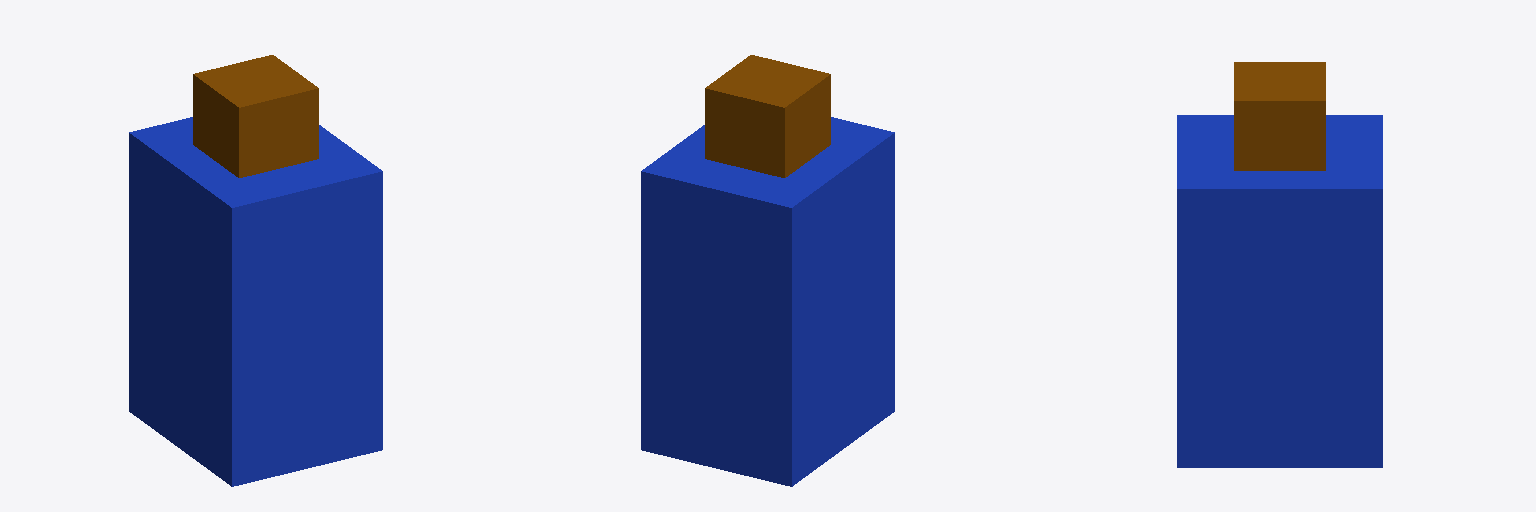
3 views of the same model, side by side, from view 1: azimuth 30°, elevation 25°; view 2: azimuth 150°, elevation 25°; view 3: azimuth 270°, elevation 25° (orthographic).
Parts seen in each view (by area): view 1: Cube, Cube.001_Cube.007; view 2: Cube, Cube.001_Cube.007; view 3: Cube, Cube.001_Cube.007.
Boxes of the visible parts, x1=… form: Cube: x1=129, y1=117, x2=382, y2=486; Cube.001_Cube.007: x1=193, y1=55, x2=318, y2=177; Cube: x1=641, y1=117, x2=894, y2=486; Cube.001_Cube.007: x1=705, y1=55, x2=830, y2=177; Cube: x1=1177, y1=115, x2=1382, y2=467; Cube.001_Cube.007: x1=1234, y1=62, x2=1325, y2=170.
Bounding box in the file's own units: 0.8606 × 1.91 × 1.02.
2 materials, 1 textured.